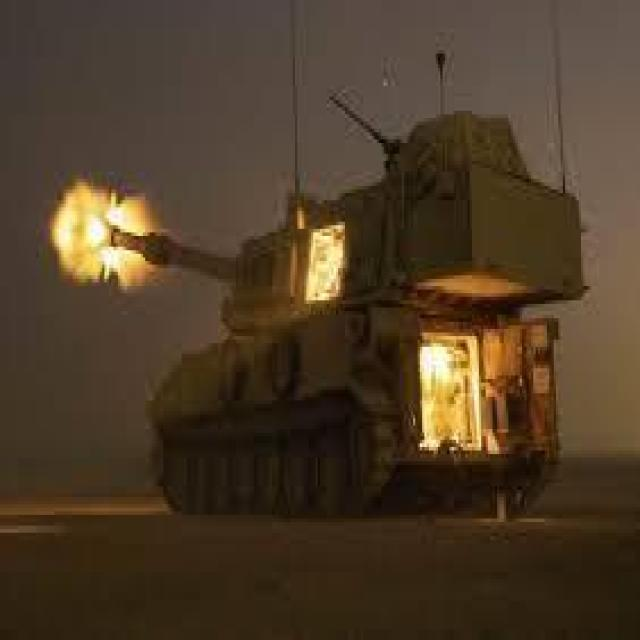Tanks: (91, 103, 592, 526)
